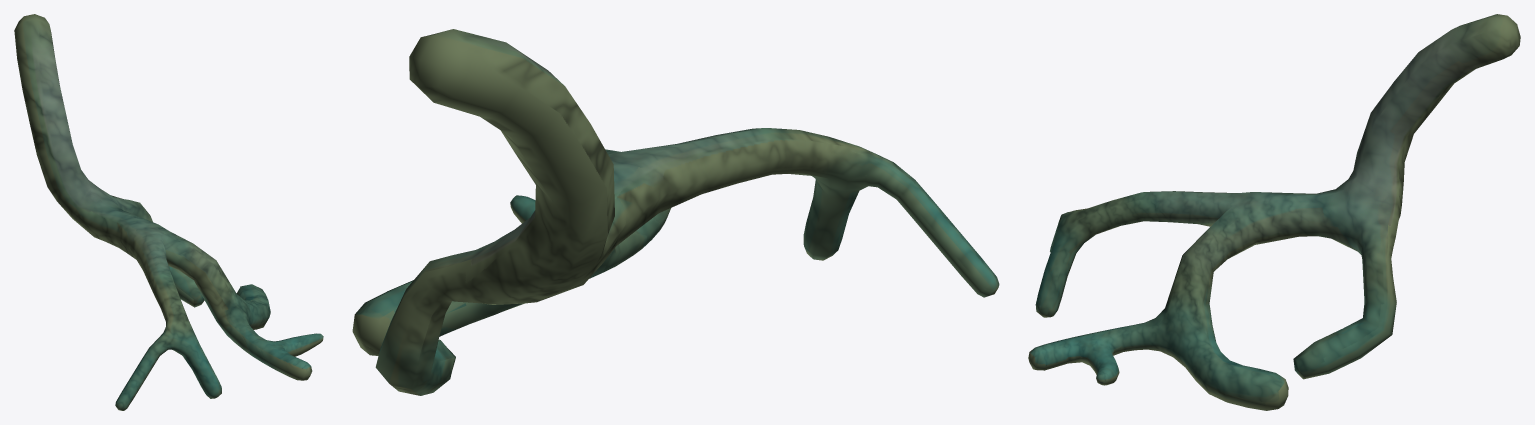
Rendered from raiz grande 2.fbx.
The picture shows the model from 3 angles, left to right: view 1: azimuth 30°, elevation 25°; view 2: azimuth 150°, elevation 25°; view 3: azimuth 270°, elevation 25°; orthographic projection. The views are drawn at different scales.
Visible parts, largest first — view 1: raiz rande; view 2: raiz rande; view 3: raiz rande.
Boxes of the visible parts, bbox=[...] form: raiz rande: bbox=[14, 14, 323, 410]; raiz rande: bbox=[352, 29, 999, 395]; raiz rande: bbox=[1028, 14, 1520, 410].
Bounding box in the file's own units: 430 × 457 × 642.
1 material, 1 textured.
